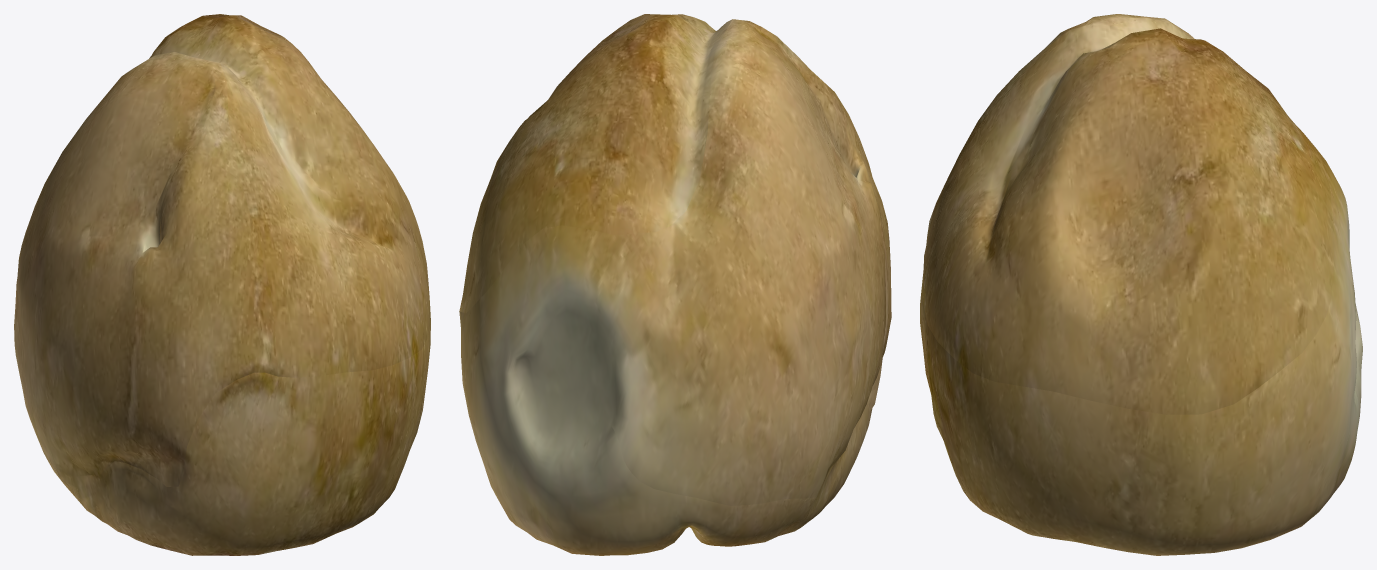
Rendered from roll_a.glb.
3 renders of one model, left to right at view 1: azimuth 30°, elevation 25°; view 2: azimuth 150°, elevation 25°; view 3: azimuth 270°, elevation 25°, orthographic. The views are drawn at different scales.
Parts seen in each view (by area): view 1: hamburger_buns_01.001; view 2: hamburger_buns_01.001; view 3: hamburger_buns_01.001.
Boxes of the visible parts, <box> form: hamburger_buns_01.001: <box>14,14,430,555</box>; hamburger_buns_01.001: <box>459,14,891,555</box>; hamburger_buns_01.001: <box>920,14,1362,555</box>.
Size of the model in its own units: 2.41 by 3.12 by 2.64.
1 material, 1 textured.
